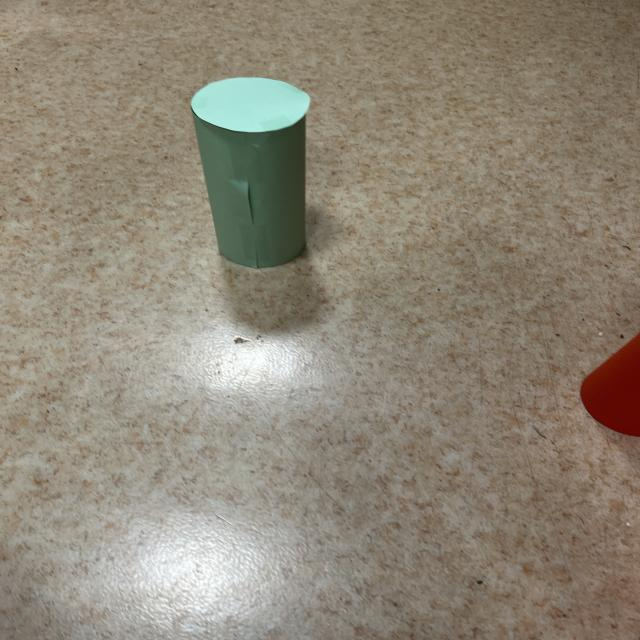meta: (191, 77, 310, 268)
